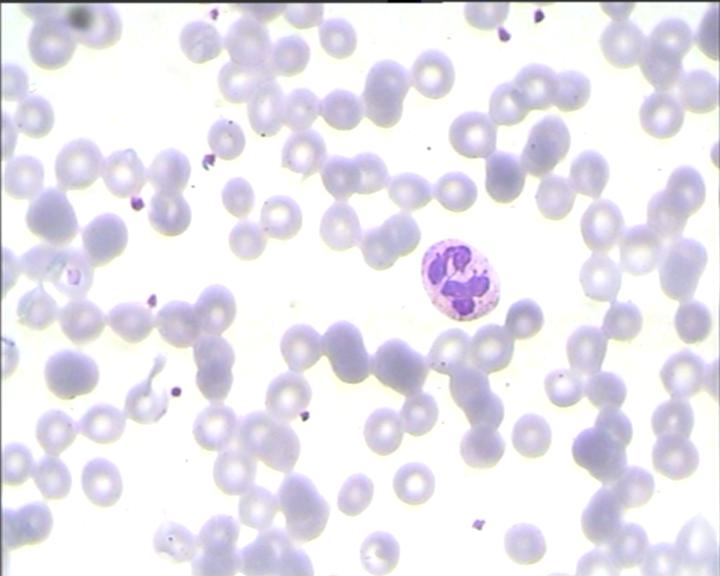neut: (414, 228, 505, 323)
